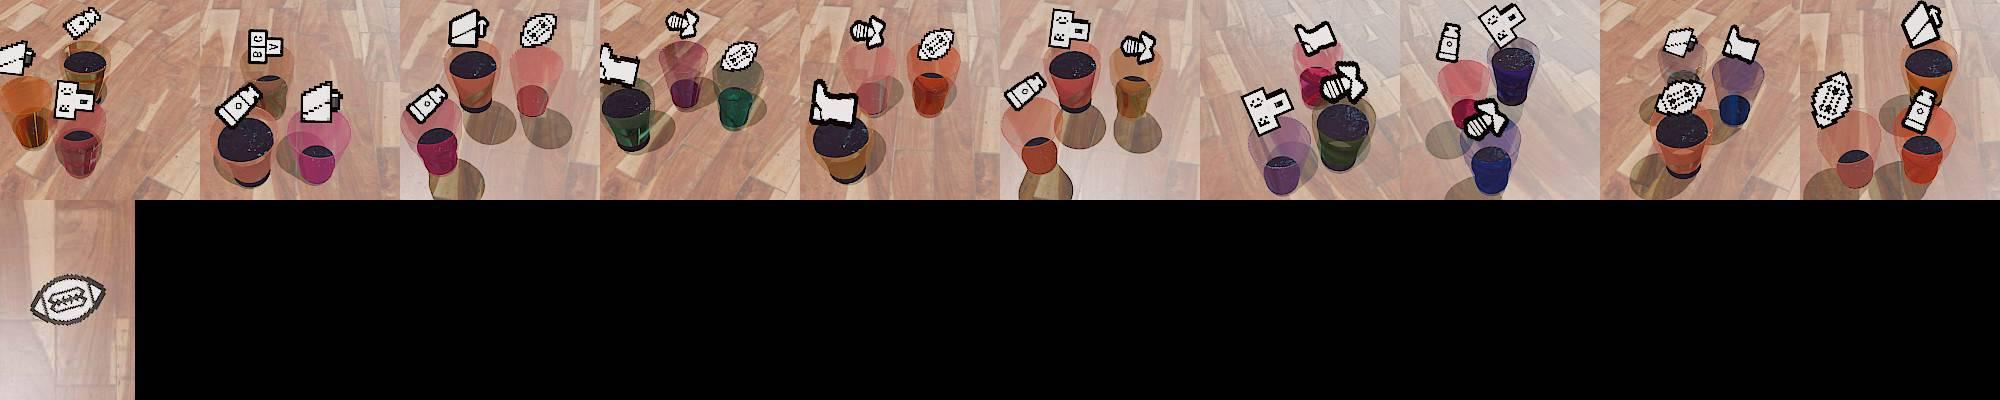icon: (27, 273, 107, 326), (1241, 84, 1292, 136), (1810, 70, 1853, 129), (810, 78, 860, 126), (214, 82, 263, 130), (1477, 3, 1524, 50), (1654, 78, 1705, 118), (598, 43, 643, 89), (1463, 98, 1508, 143), (404, 82, 450, 125), (1901, 1, 1943, 48), (1901, 85, 1939, 136), (1003, 69, 1047, 111), (1047, 8, 1091, 50), (300, 80, 342, 124), (1295, 18, 1339, 59), (448, 9, 491, 50), (1330, 60, 1370, 102), (1719, 24, 1760, 64), (54, 80, 97, 117), (519, 11, 559, 48), (0, 39, 37, 78), (719, 39, 760, 73), (849, 14, 886, 50), (246, 28, 283, 64), (62, 6, 101, 41), (1120, 29, 1157, 64), (1662, 27, 1699, 60), (918, 28, 954, 61), (665, 8, 702, 39), (1436, 22, 1462, 64)
